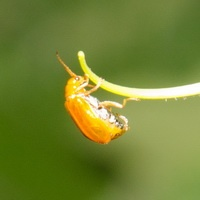insect: (56, 52, 138, 143)
